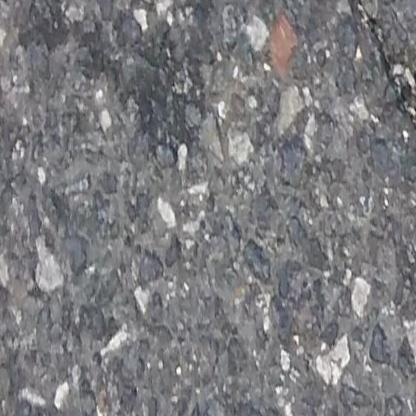Cracks: (335, 0, 416, 154)
